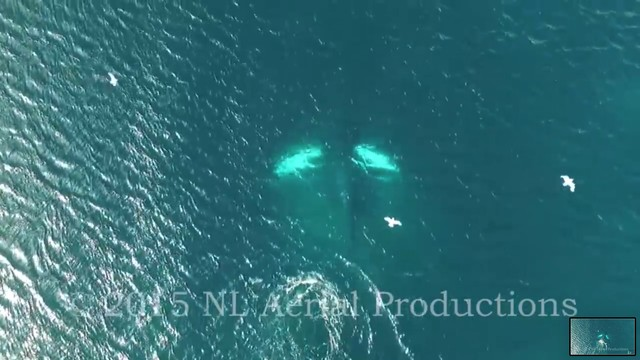whale: (274, 85, 403, 299)
